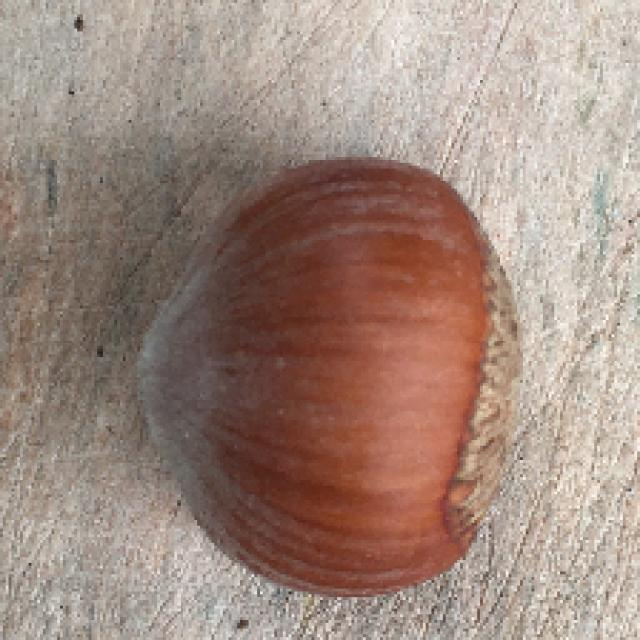qualityHazelnut: (134, 141, 530, 610)
